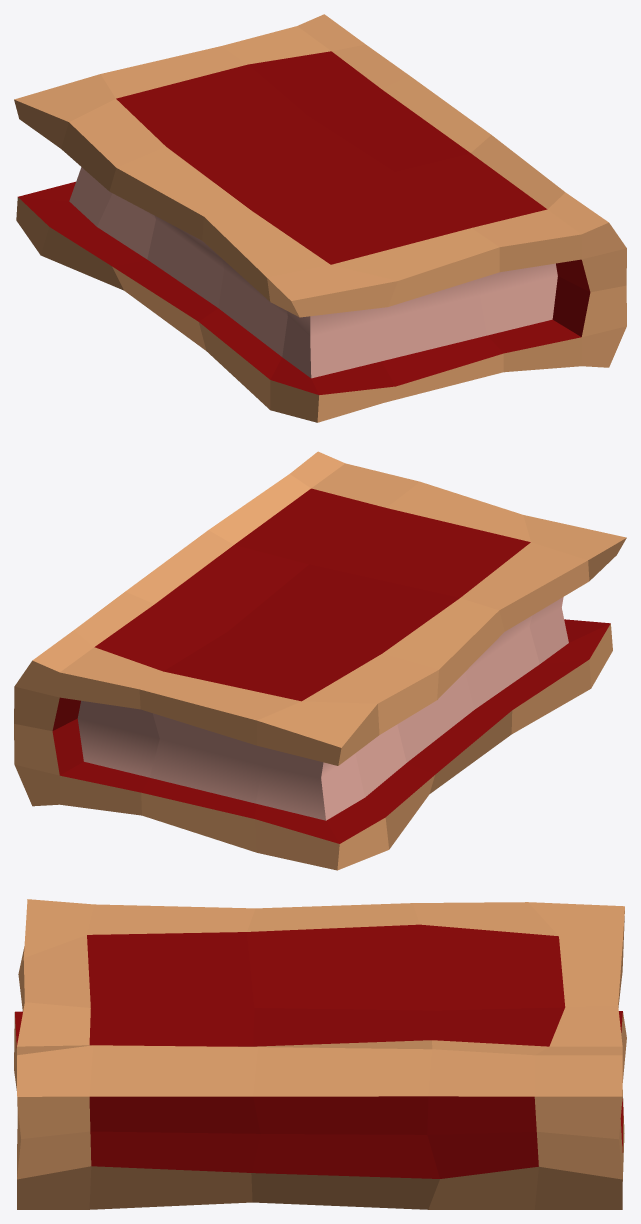
File: Book.fbx
3 views of the same model, one above another, from view 1: azimuth 30°, elevation 25°; view 2: azimuth 150°, elevation 25°; view 3: azimuth 270°, elevation 25° (orthographic). The views are drawn at different scales.
Visible parts, largest first — view 1: Book; view 2: Book; view 3: Book.
Part boxes in pixels (bbox=[...]): Book: bbox=[14, 14, 626, 422]; Book: bbox=[14, 451, 626, 870]; Book: bbox=[14, 899, 626, 1209].
Bounding box in the file's own units: 28.01 × 11.89 × 41.14.
